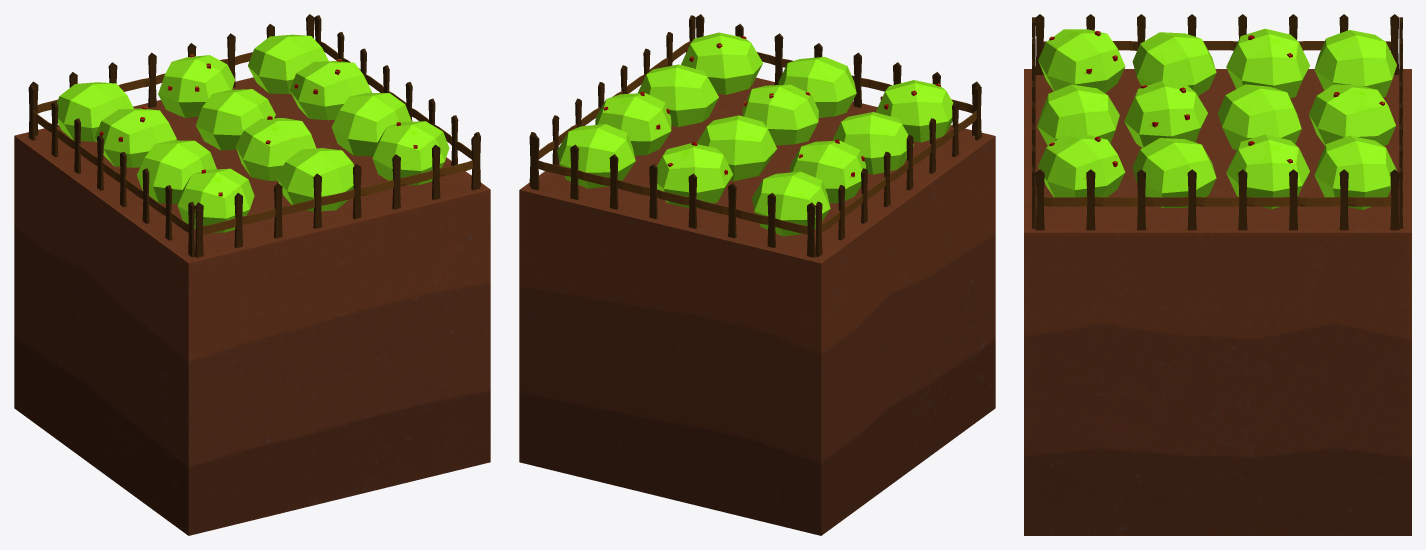
Rendered from Concepts_8.fbx.
The picture shows the model from 3 angles, left to right: view 1: azimuth 30°, elevation 25°; view 2: azimuth 150°, elevation 25°; view 3: azimuth 270°, elevation 25°; orthographic projection. The views are drawn at different scales.
Visible parts, largest first — view 1: Cube.105, Cube.106, Cube.003; view 2: Cube.105, Cube.106, Cube.003; view 3: Cube.105, Cube.106, Cube.003.
Boxes of the visible parts, x1,y1,x2,y2 form: Cube.105: [14, 77, 490, 535]; Cube.106: [57, 34, 449, 232]; Cube.003: [28, 14, 480, 257]; Cube.105: [519, 77, 995, 535]; Cube.106: [557, 32, 953, 236]; Cube.003: [529, 14, 981, 257]; Cube.105: [1024, 69, 1411, 535]; Cube.106: [1037, 28, 1396, 209]; Cube.003: [1032, 14, 1402, 230].
Size of the model in its own units: 301 by 316 by 301.
